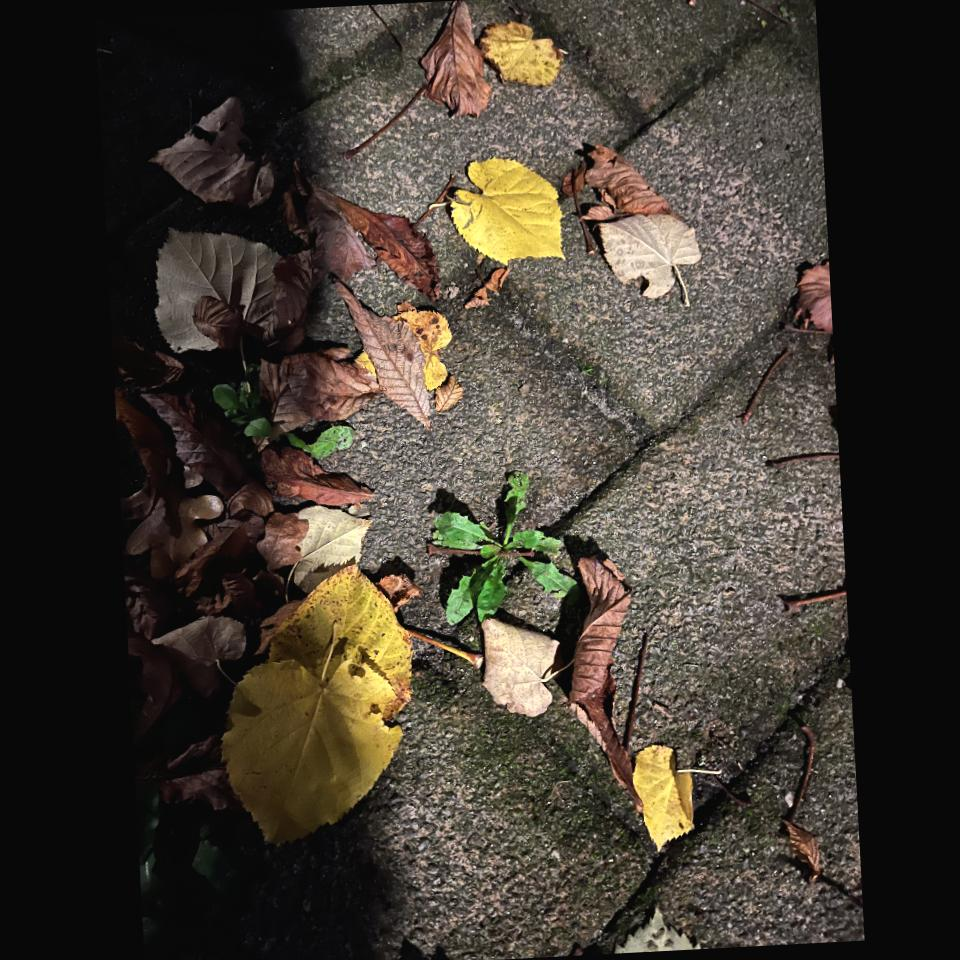weed: (404, 474, 591, 620), (213, 379, 361, 463)
